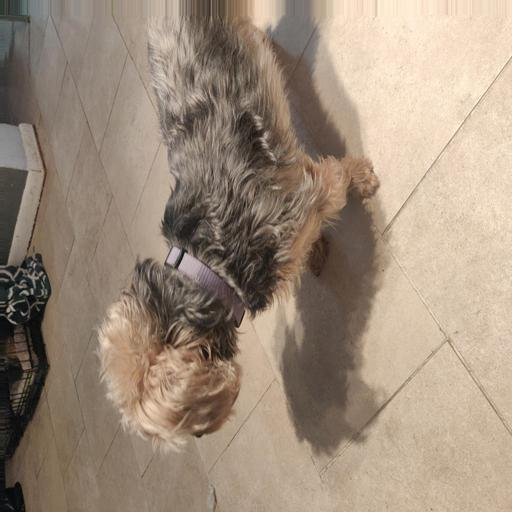dog: (78, 132, 390, 444)
